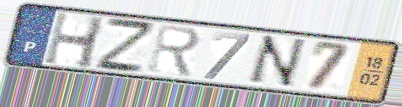7: (201, 29, 253, 81), (306, 39, 355, 92)
H: (40, 10, 109, 72)
N: (243, 34, 309, 90)
R: (145, 22, 204, 80)
Z: (93, 15, 155, 76)
